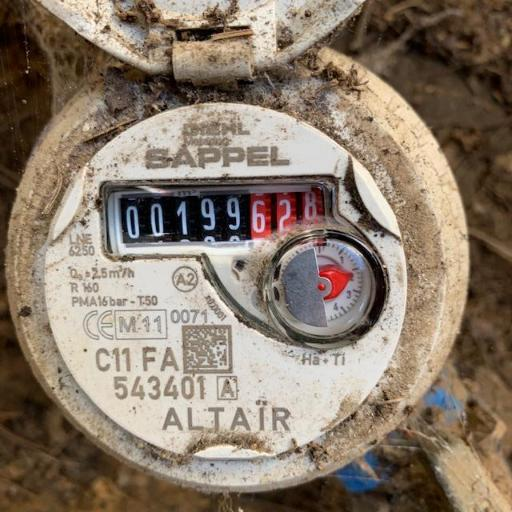0: (145, 195, 168, 243), (121, 198, 143, 244)
1: (172, 194, 193, 243)
2: (275, 192, 295, 235)
6: (249, 192, 270, 241)
8: (301, 185, 323, 225)
9: (196, 192, 220, 244), (224, 193, 245, 244)
border_water_meter_number: (99, 175, 339, 261)
